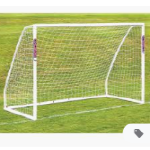goals: (3, 23, 146, 120)
